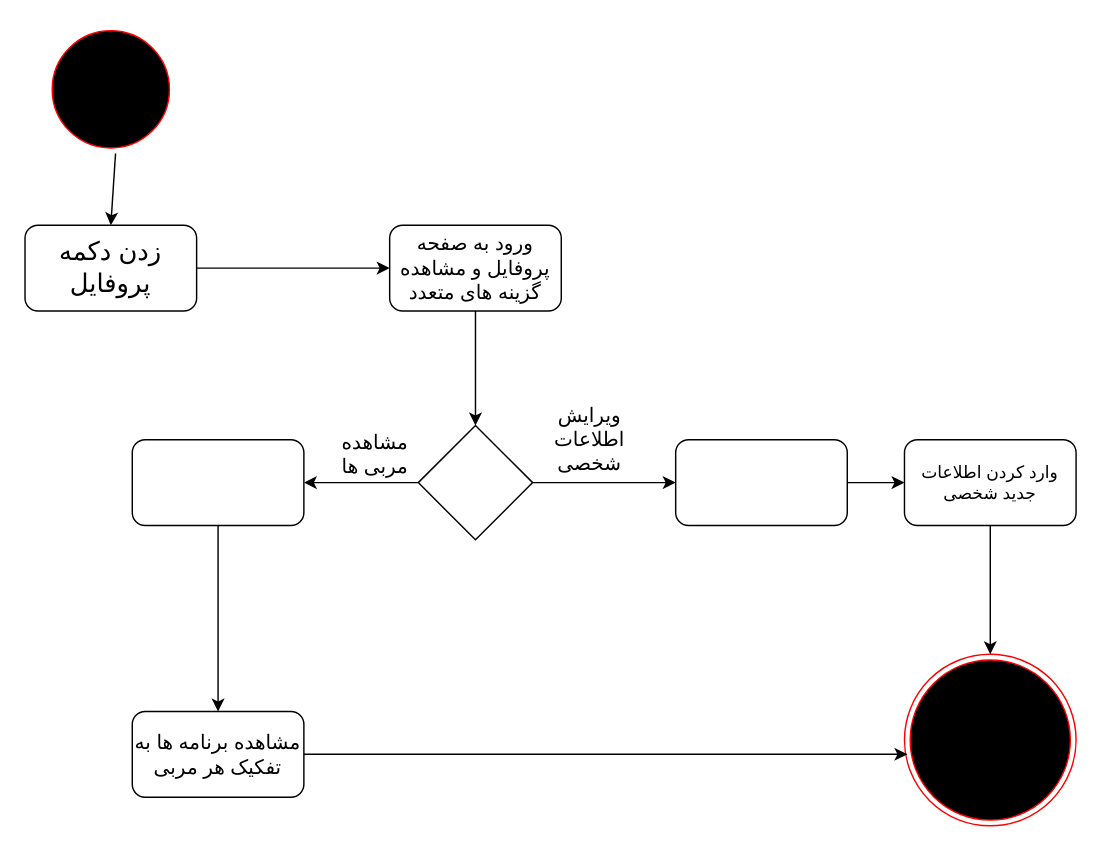
This 1101x851 diagram has some shape labels left out. The shapes that lost their labels are listed below. From the top down, each one's box as (x1, y1, x2, y2) in pixels, then its label:
(131, 438, 304, 526): ورود به قسمت مربی های ورزشکار
(674, 438, 847, 526): زدن دکمه ویرایش اطلاعات
